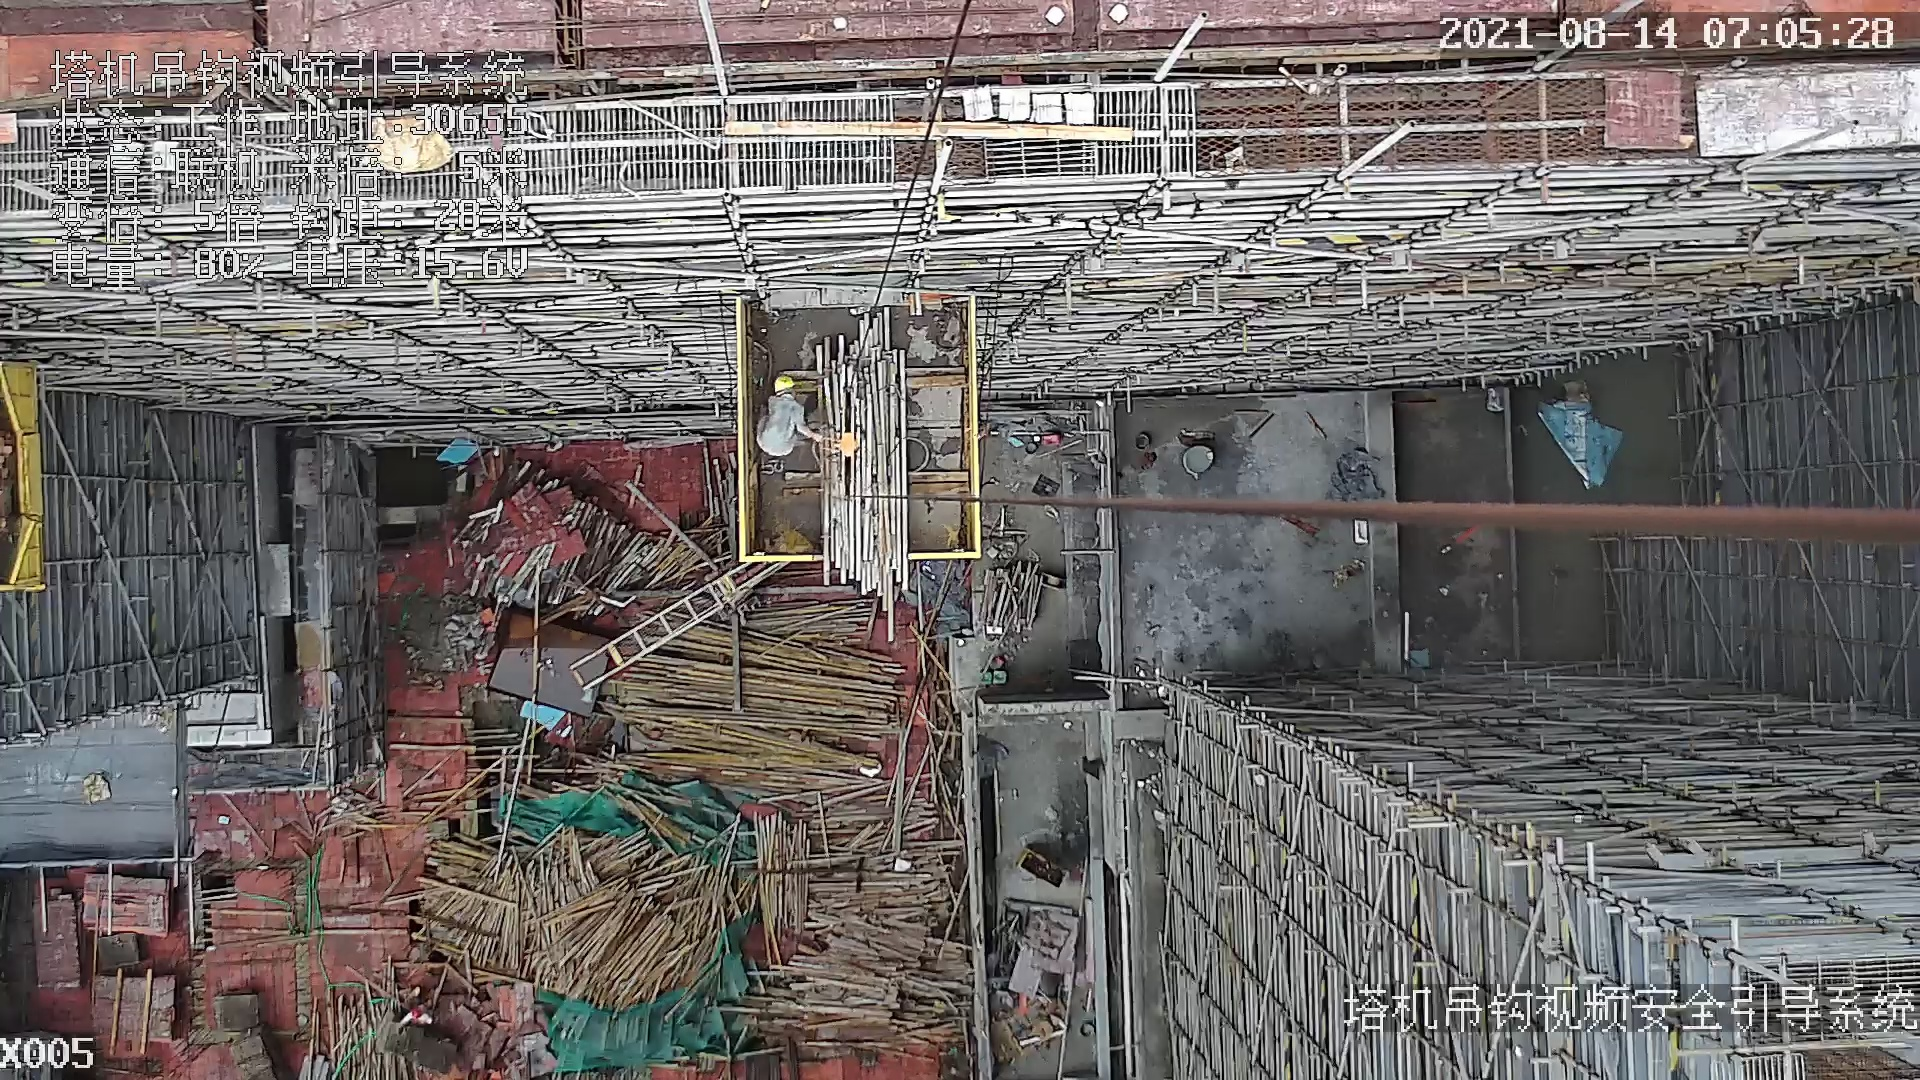helmet: (773, 373, 796, 395)
hook: (827, 383, 874, 509)
person: (764, 378, 820, 458)
